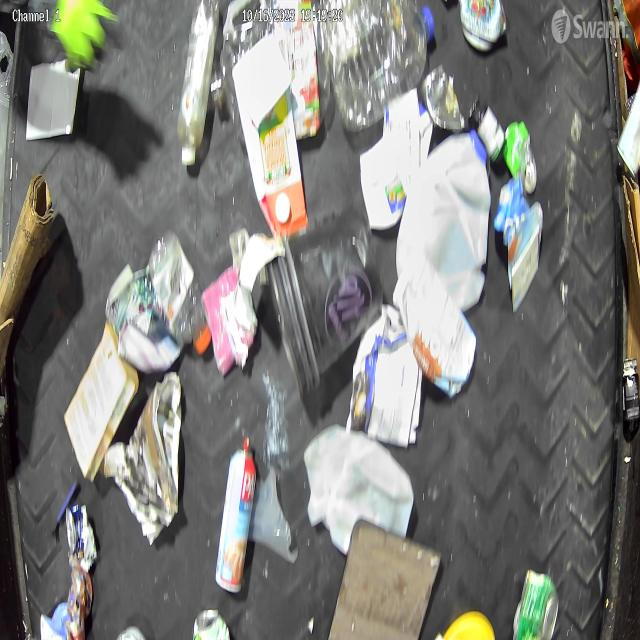can: (511, 565, 561, 640), (503, 122, 538, 198), (457, 0, 507, 52), (66, 503, 100, 562), (191, 608, 232, 640)
milk_jug: (396, 126, 492, 314), (302, 423, 414, 555)
plastic_bottle: (328, 0, 436, 136), (150, 234, 212, 355), (176, 0, 220, 169)
